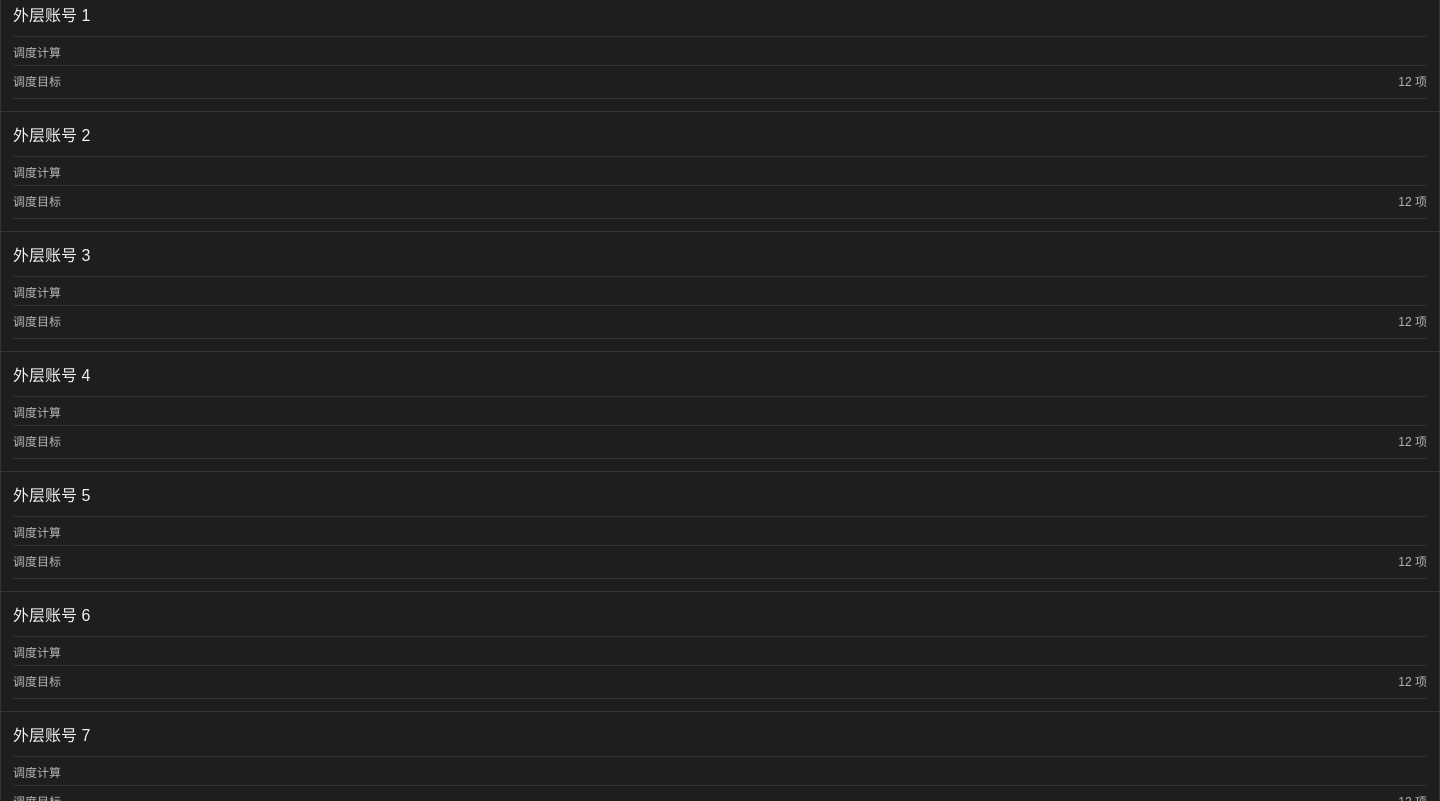
无 ID 的记录翻页后不继承上一页的嵌套集合展开状态
The image size is (1440, 801).
Click the 1st text "调度目标".
click(37, 82)  # box [13,74,61,90]
(page scrolled)
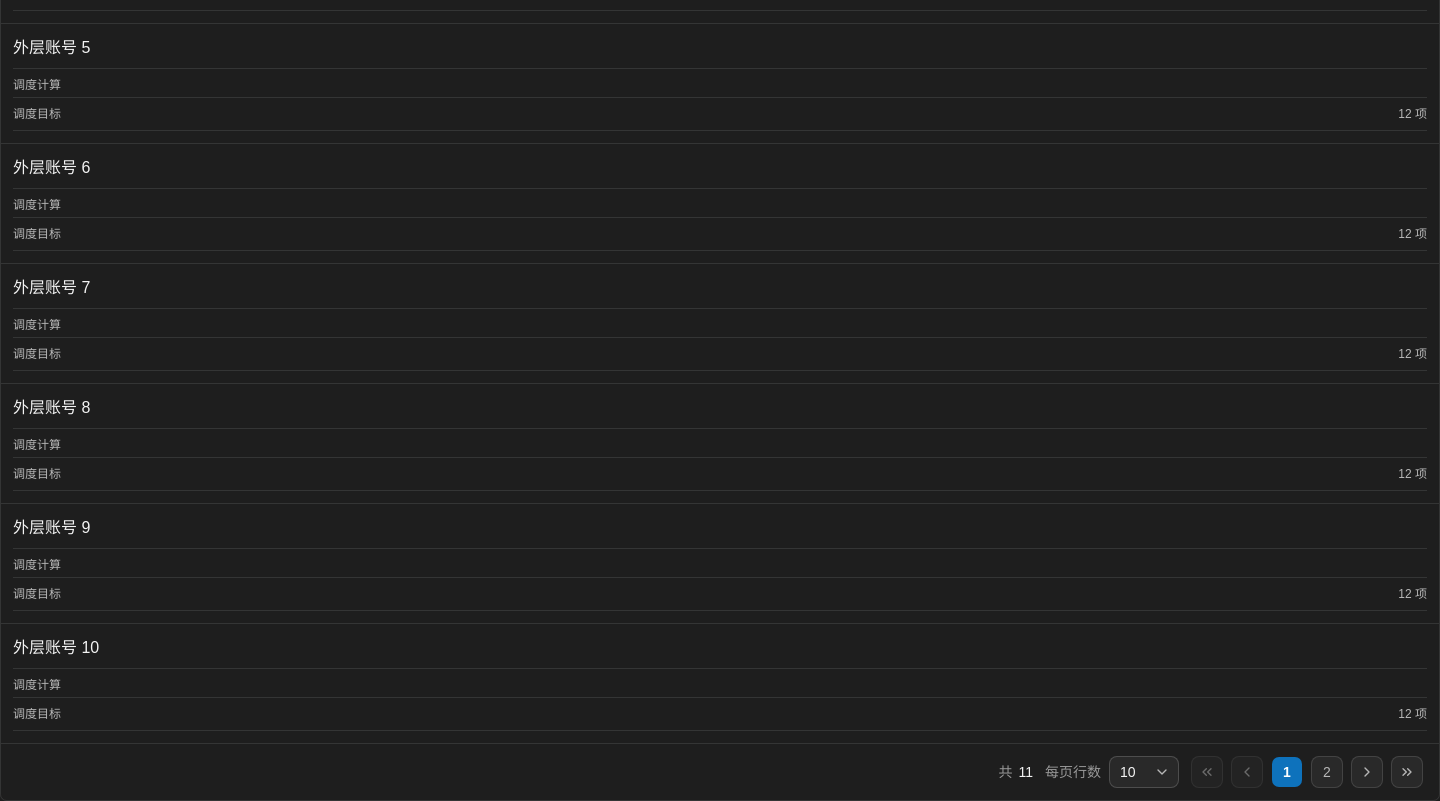
Click the button named "转到下一页".
click(1367, 772)  # box [1351,756,1383,788]
(page scrolled)
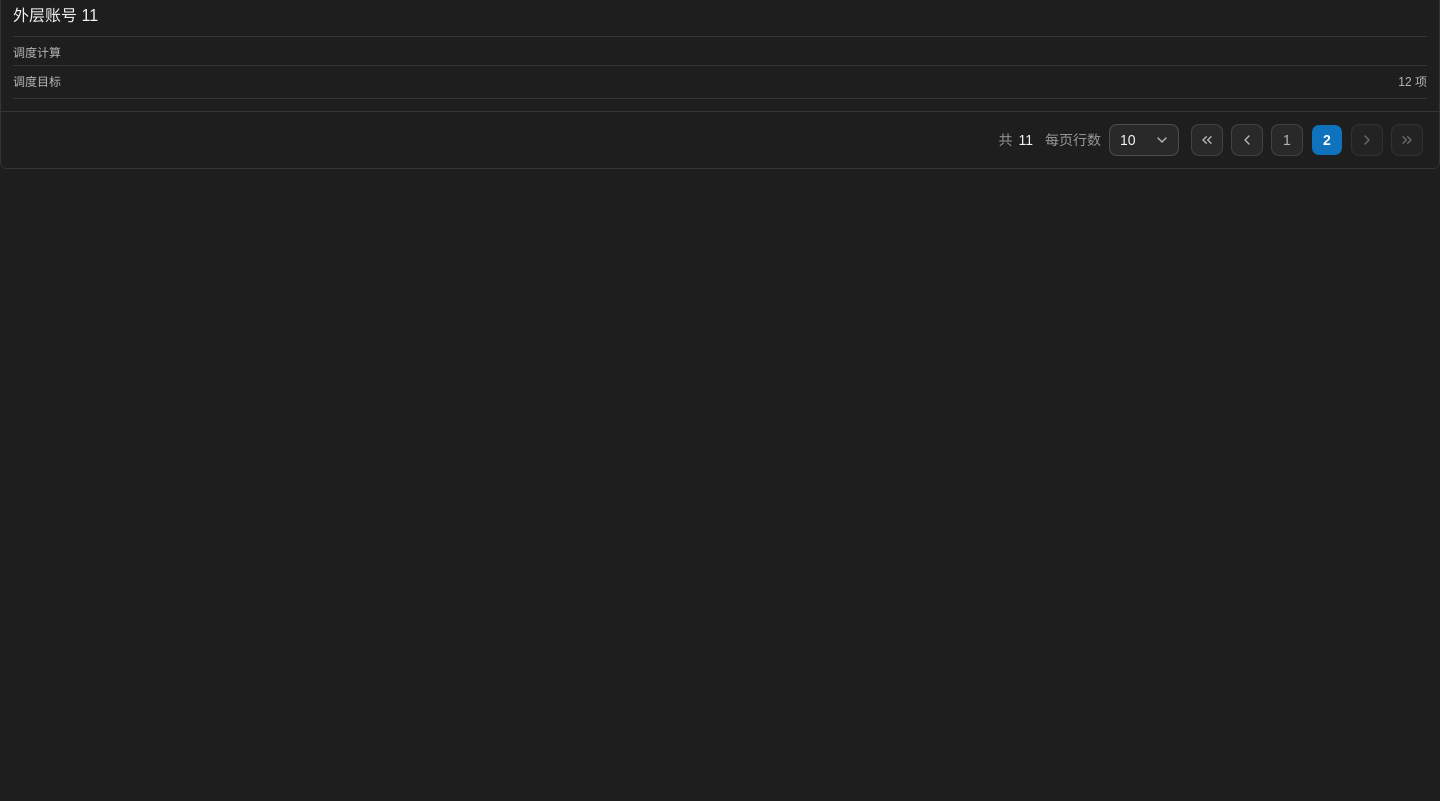
Expected: the text "子账号 11-1" is not shown
Expected: the text "外层账号 11" is shown, [13,4,98,28]
Click the text "调度目标".
click(37, 82)  # box [13,74,61,90]
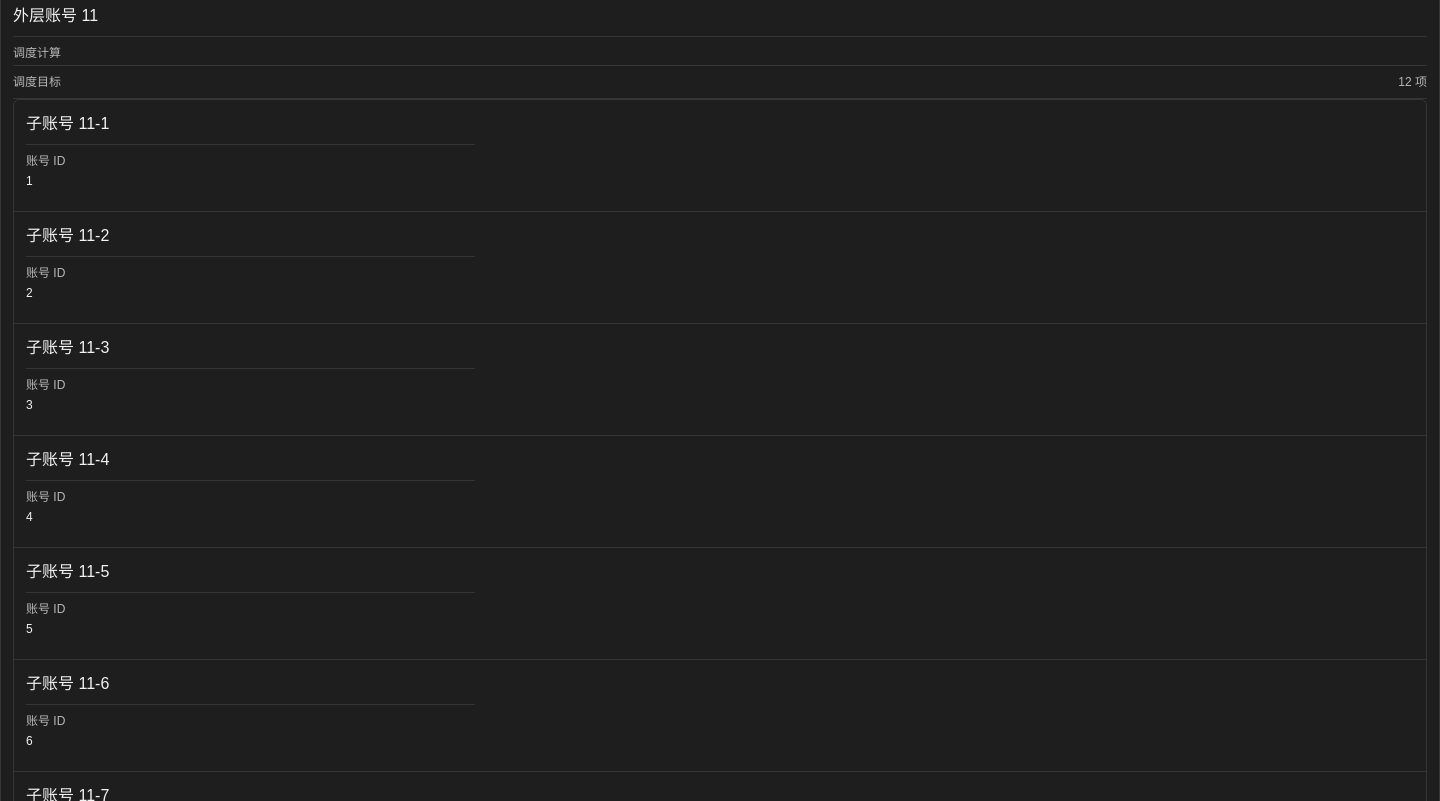
Expected: the text "子账号 11-1" is shown, [26,112,109,136]
